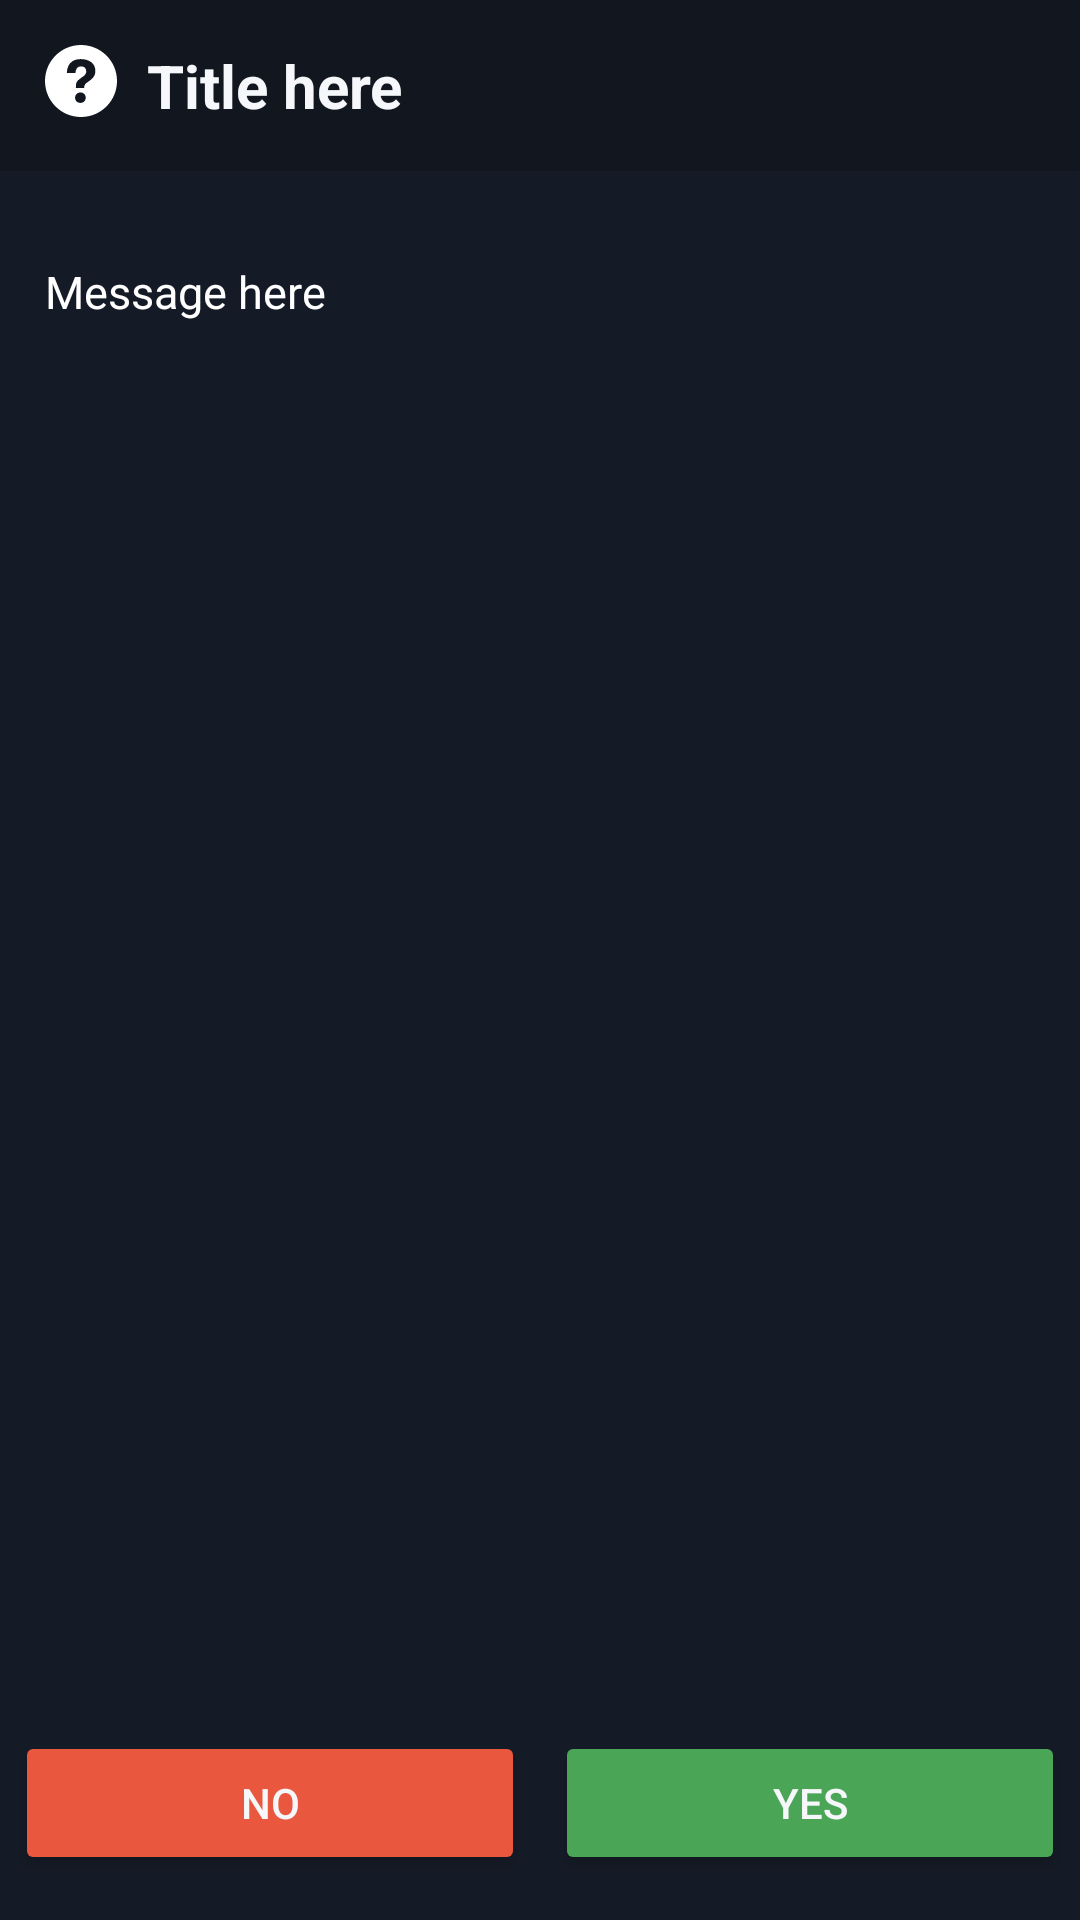

Icons on this 1080x1920 Android screen, each with its box as bbox(x1, y1, x2, y2):
question: bbox(45, 45, 117, 117)
